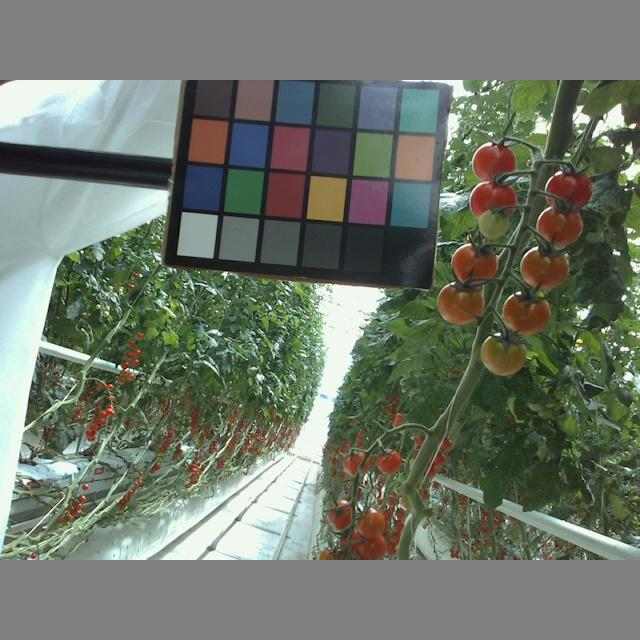green: (476, 205, 511, 239)
pink: (480, 327, 528, 374), (521, 243, 569, 290), (438, 280, 485, 326), (502, 289, 550, 333), (451, 243, 498, 287), (537, 206, 583, 249), (354, 509, 386, 539), (326, 499, 355, 530), (340, 450, 370, 478), (355, 532, 387, 558)
red: (470, 179, 517, 223), (470, 143, 517, 184), (544, 171, 594, 209), (373, 446, 403, 475)
